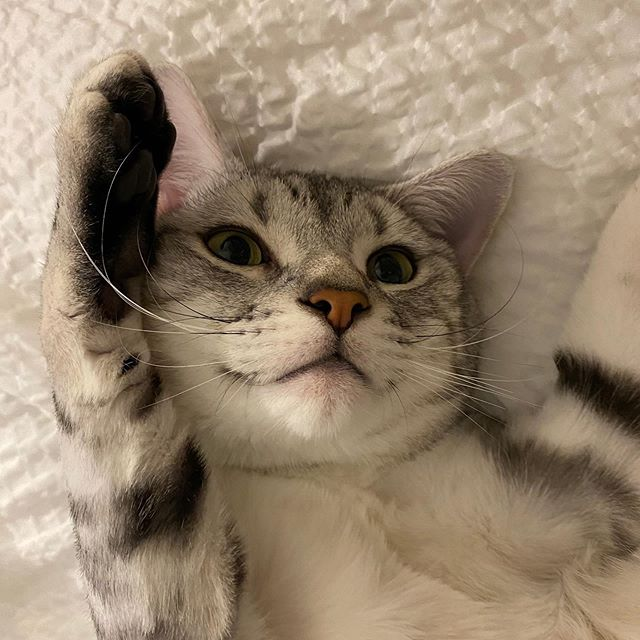cat: (99, 60, 517, 457)
